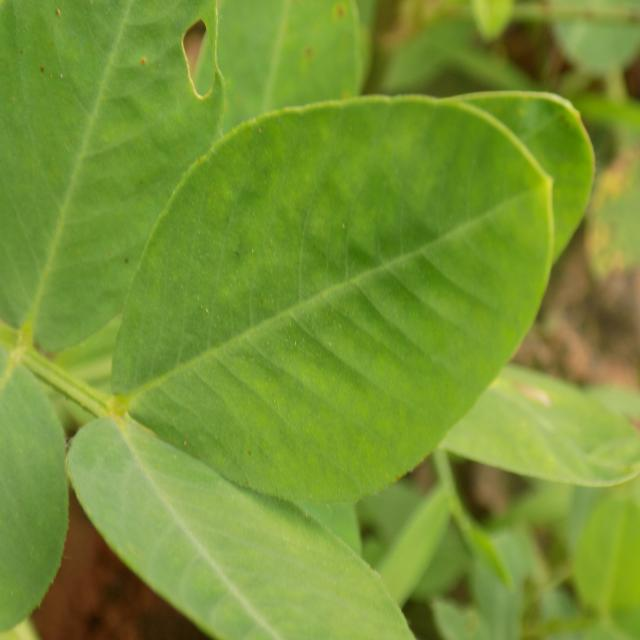Ground nut_healthy: (109, 91, 556, 508)
